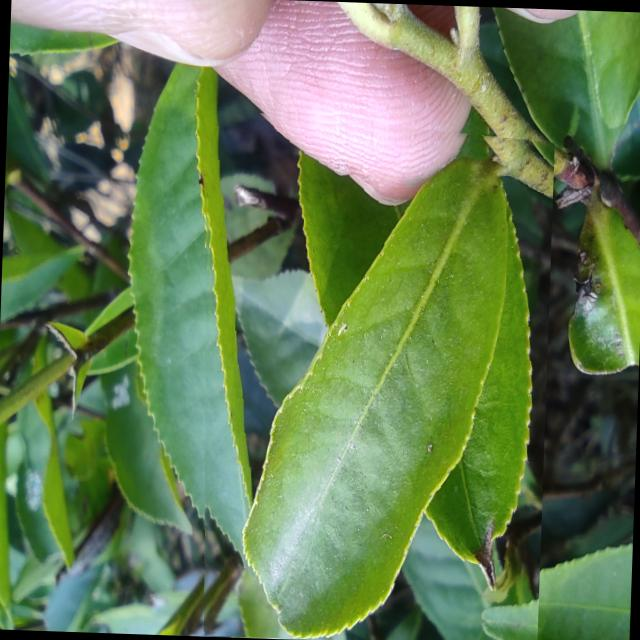Category C(4-7 days): (188, 106, 555, 640)
